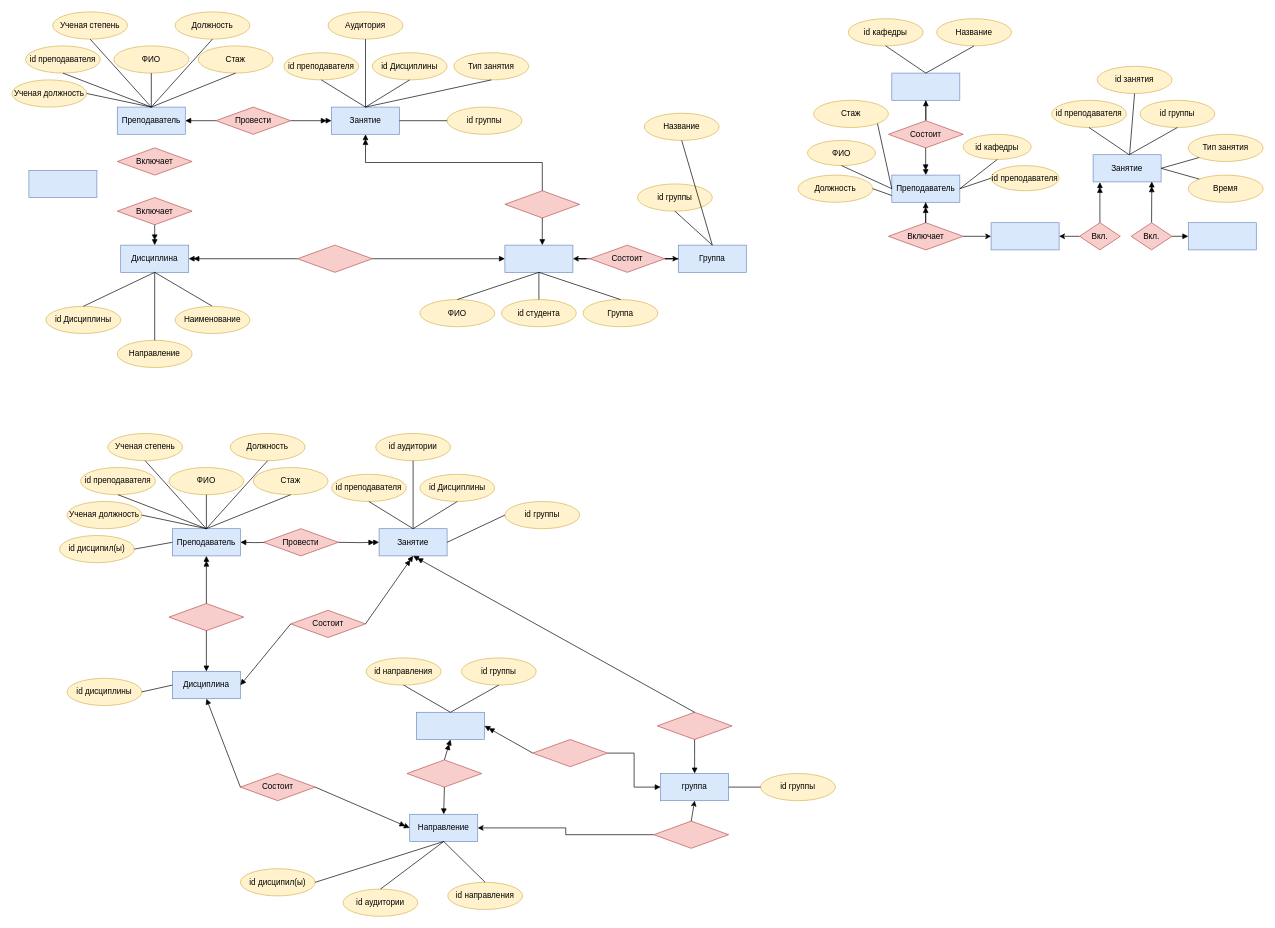
This 1275x928 diagram has some shape labels left out. Here are the shapes that lost their labels. From the top down, the box of each, then its label:
(891, 72, 960, 100): Кафедра
(28, 170, 97, 198): Журнал дисциплин
(504, 190, 580, 218): Прийти
(990, 222, 1059, 250): Журнал преподавателей
(1188, 222, 1256, 250): Журнал групп
(297, 244, 372, 272): Освоить на всю жизнь (по желанию)
(504, 244, 573, 272): Студент
(168, 603, 244, 631): Знать
(416, 712, 485, 740): Журнал
(657, 712, 732, 740): Посещает
(406, 759, 482, 787): Включать
(532, 739, 608, 767): Содержит
(653, 820, 729, 848): Выучить
